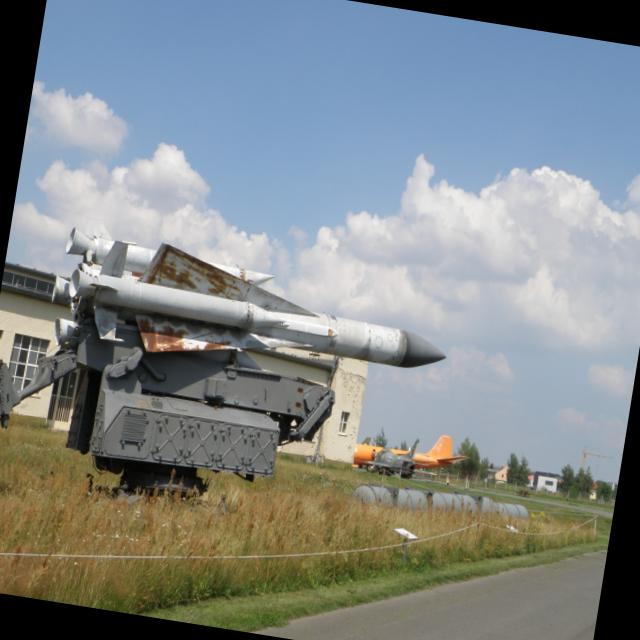rocket: (50, 228, 456, 402)
